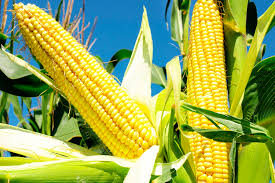milho: (13, 3, 249, 177)
